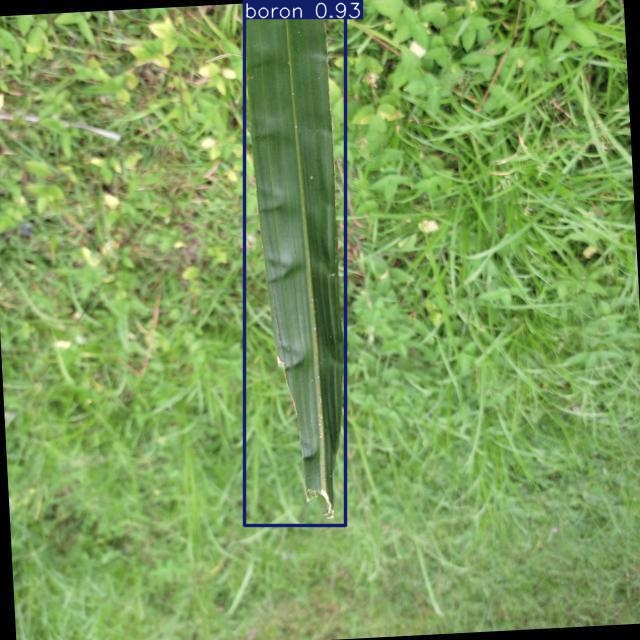nitrogen: (244, 0, 346, 526)
